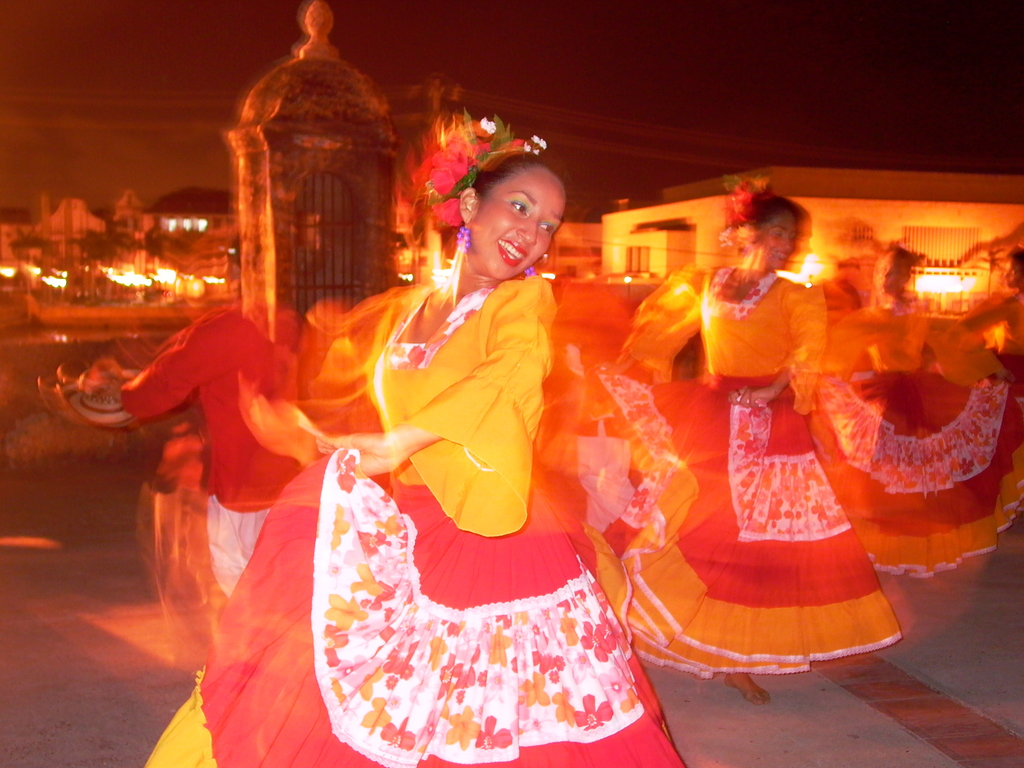Person: (32, 105, 1023, 768), (144, 105, 687, 767)
